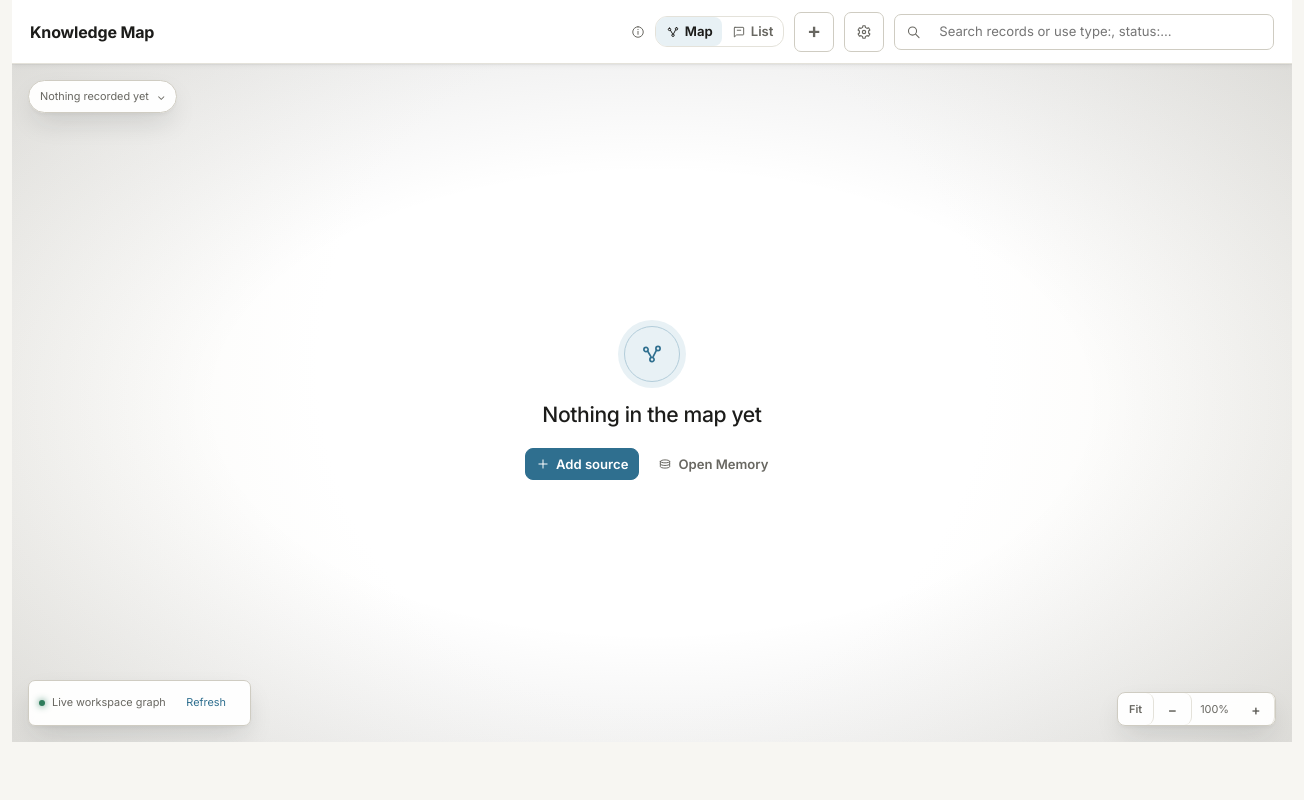
Test: BrainView › says the map is empty rather than drawing nodes nobody made, and opens force settings
The width and height of the screenshot is (1304, 800).
Expected: the text "Nothing in the map yet" is shown, [542,402,762,427]
Expected: the button "Add source" is shown, [525,448,639,480]
Click the button named "Graph settings" at (864, 32), box [844,12,884,52]
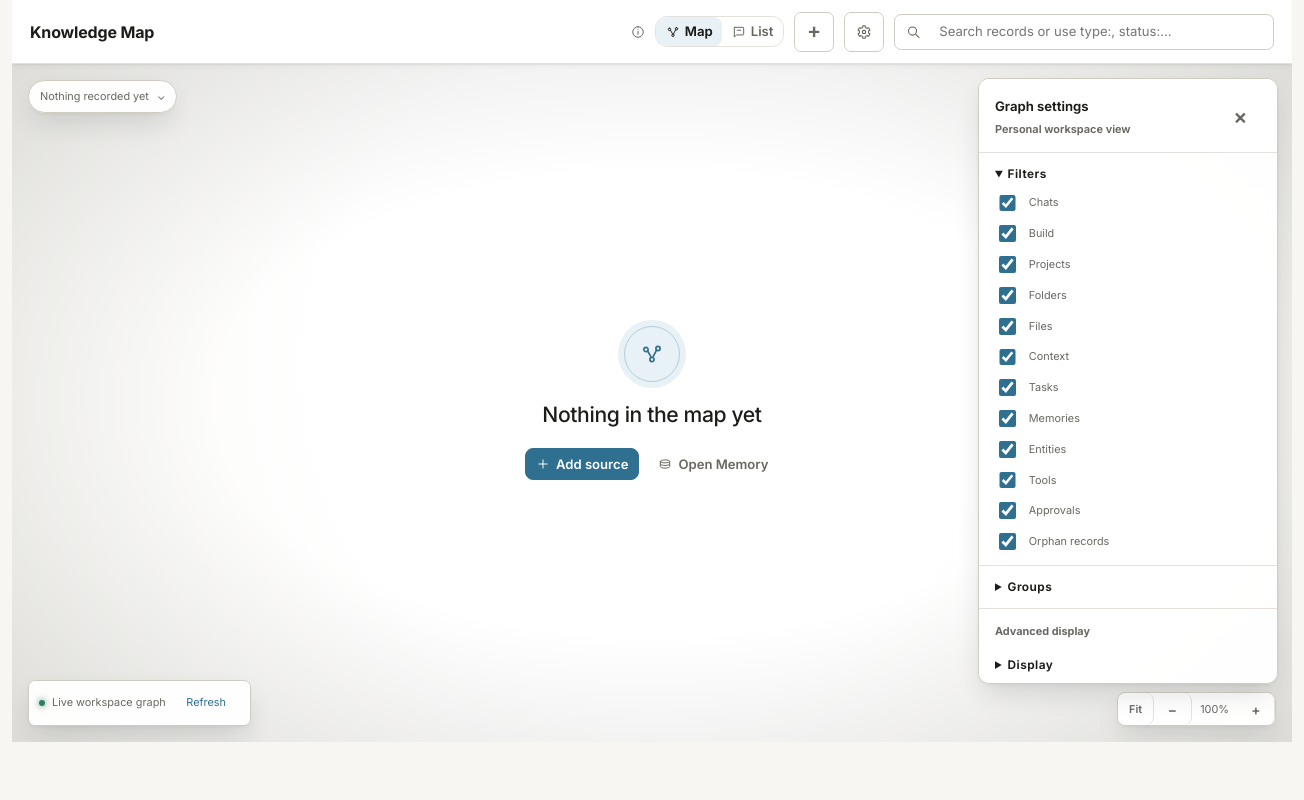
Now the heading "Filters" is shown, box [1008,167,1047,181]
Now the text "Advanced display" is shown, box [995,624,1090,638]
